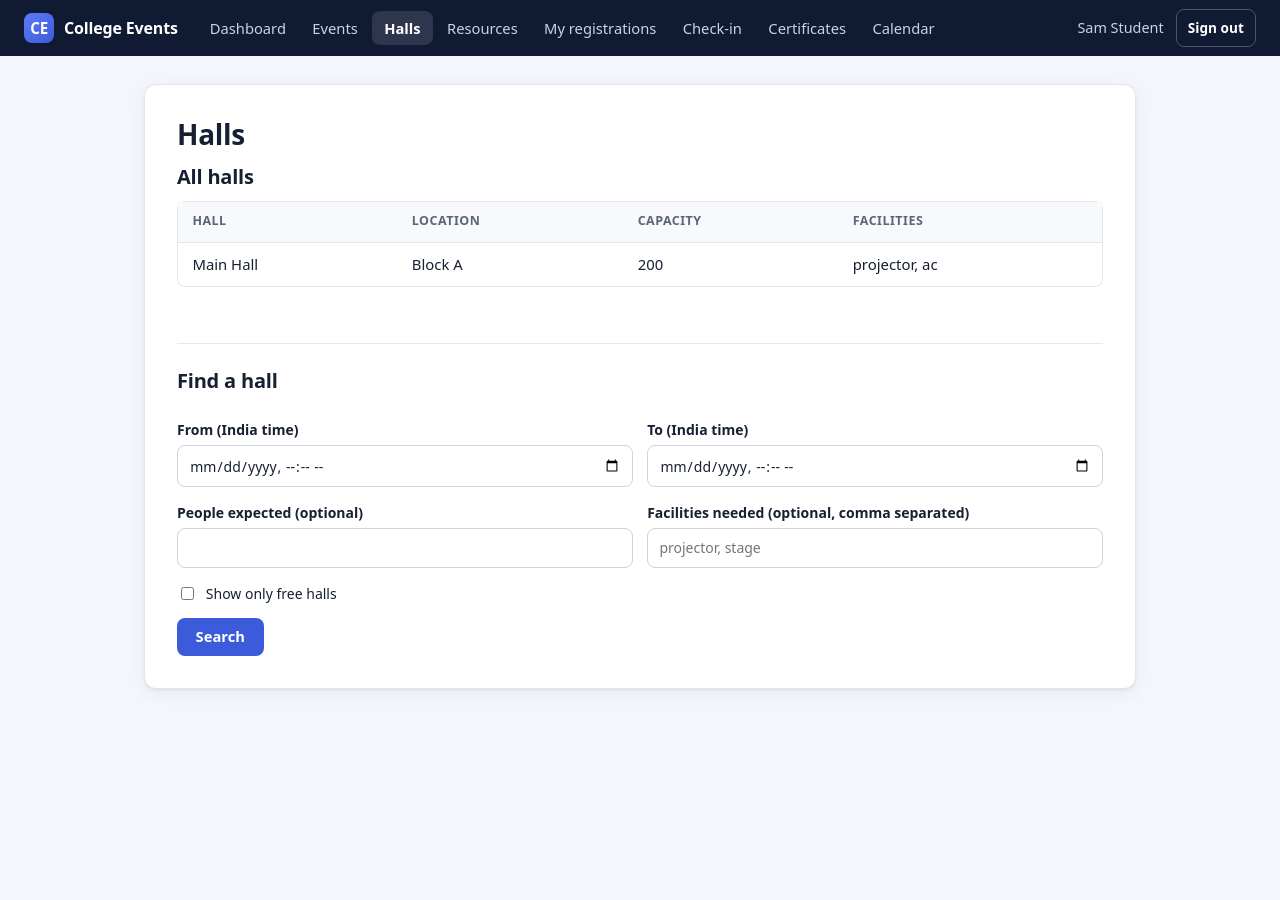
Test: halls page › shows which halls are free, who holds the others, and what does not fit
Type "2031-03-01T10:00" into the field labelled "From (India time)". click: point(405, 466)
box: x1=177 y1=445 x2=633 y2=487
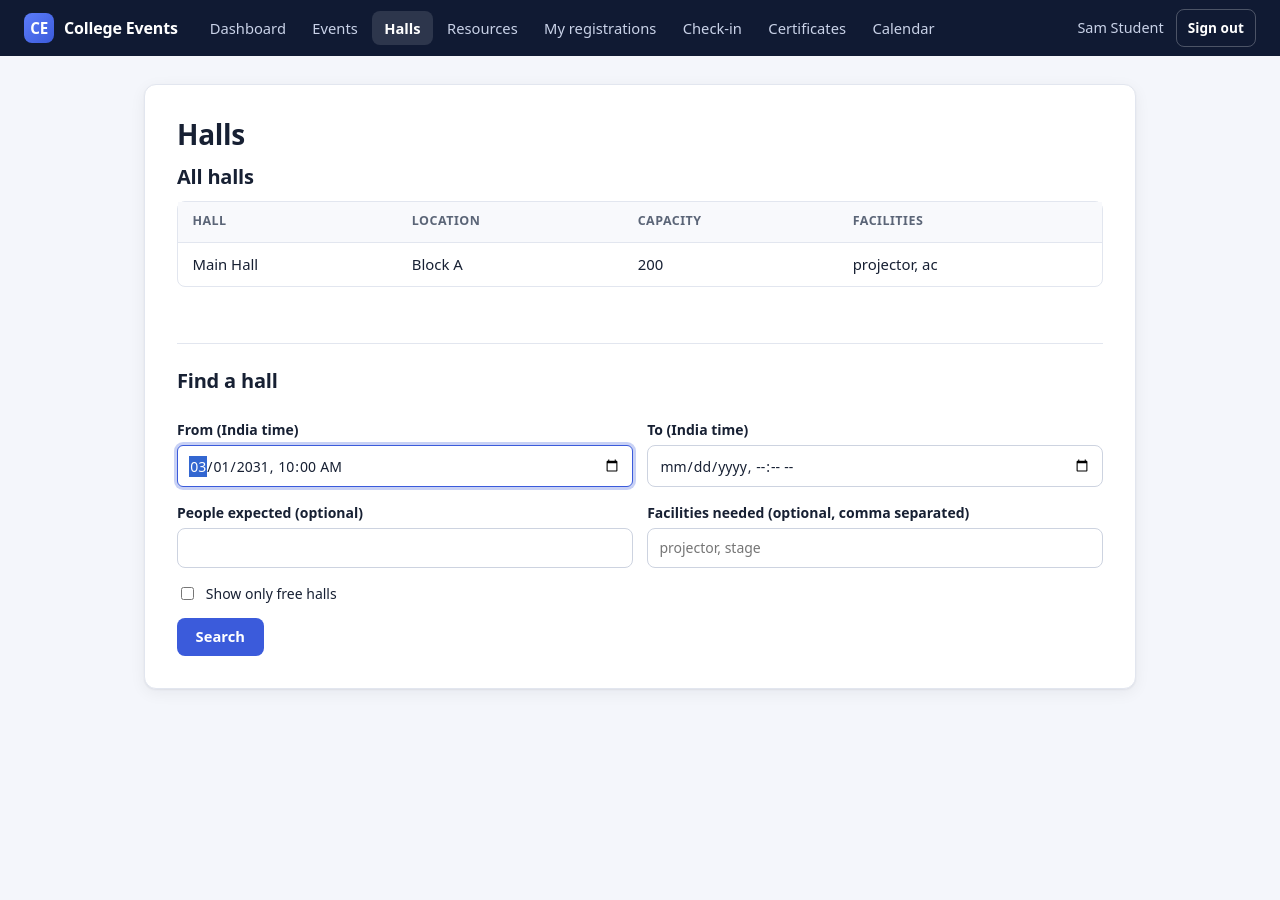
Type "2031-03-01T12:00" into the field labelled "To (India time)". click: point(875, 466)
box: x1=647 y1=445 x2=1103 y2=487
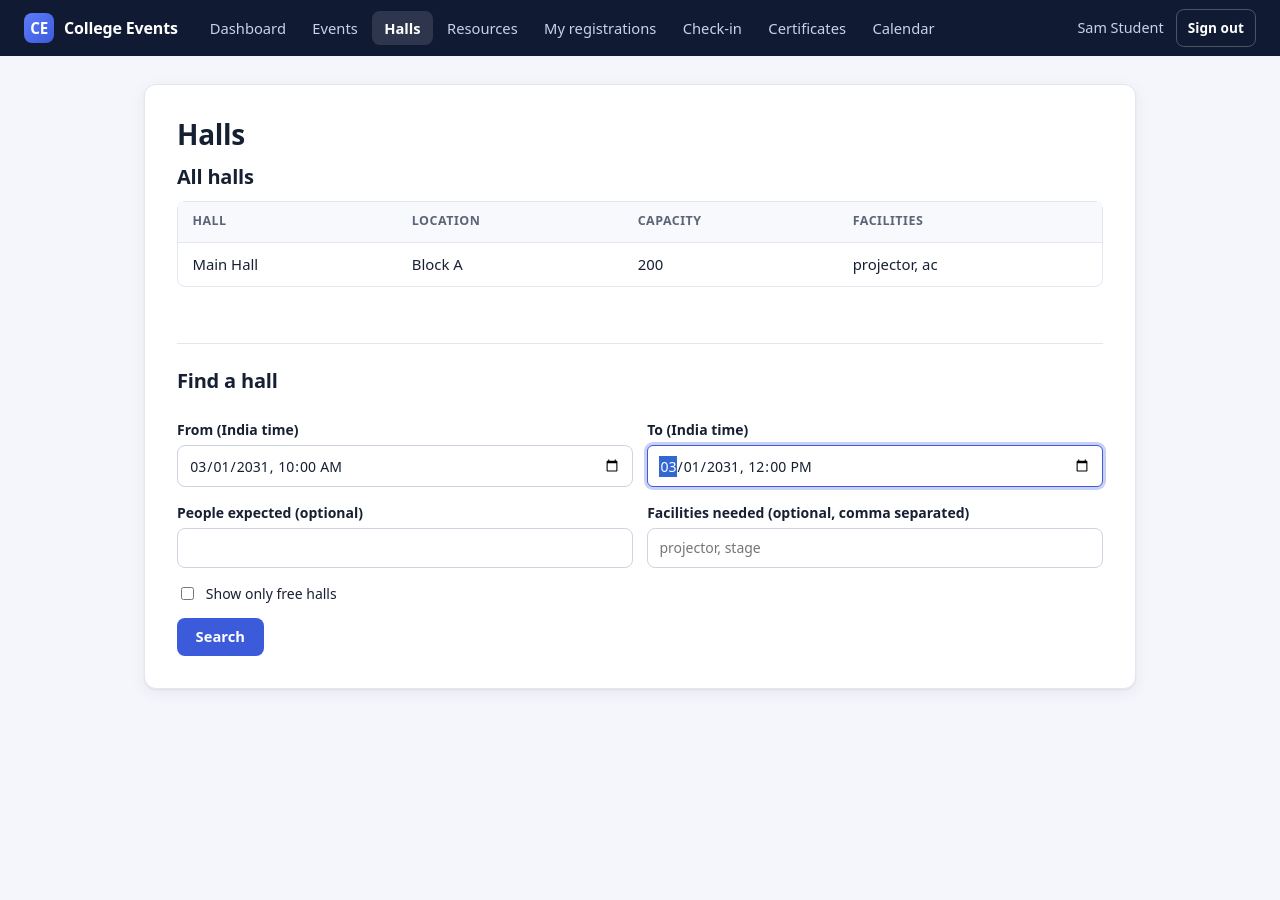
Type "300" into the number field labelled "People expected (optional)". click: point(405, 548)
box: x1=177 y1=528 x2=633 y2=568
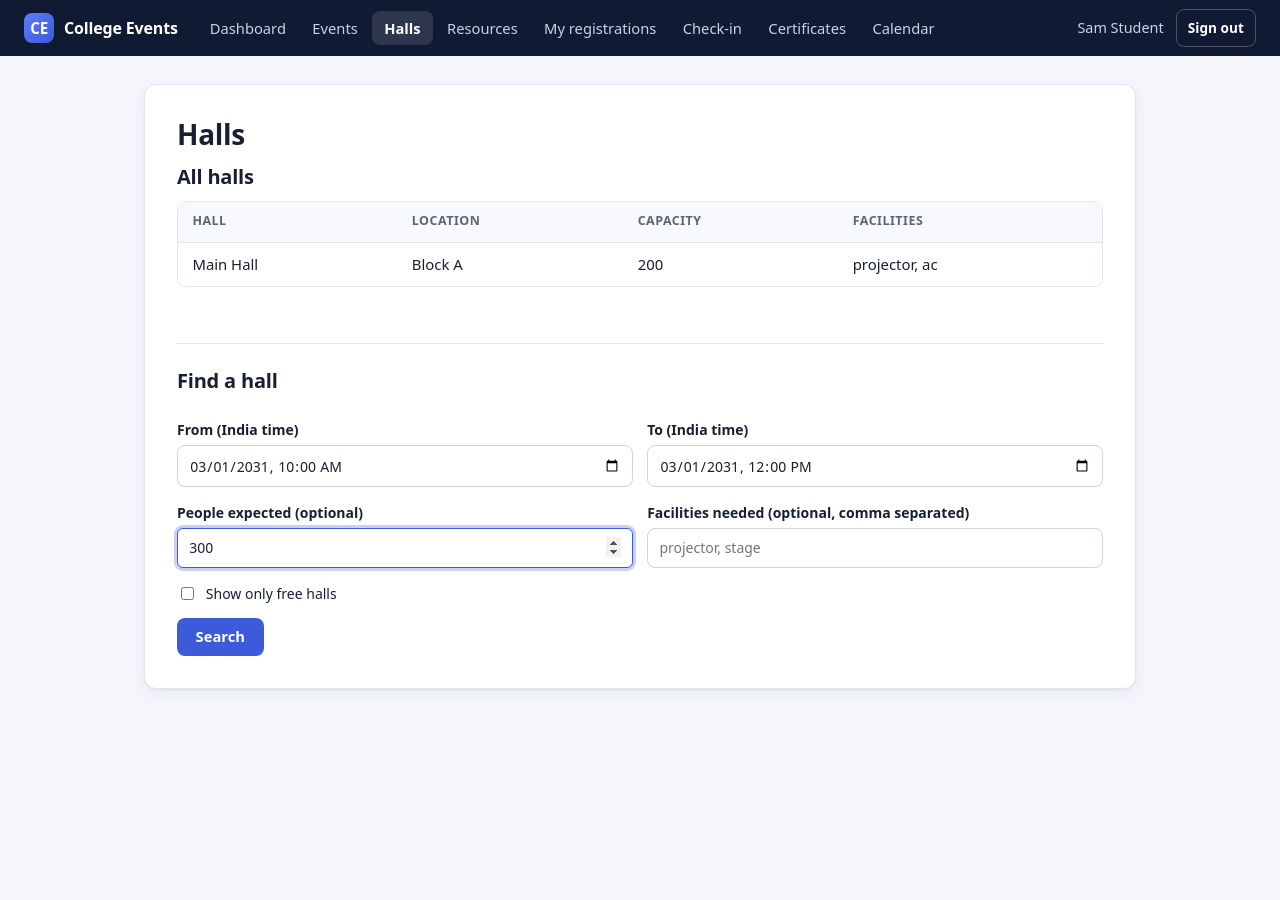
Type "stage" into the field labelled "Facilities needed (optional, comma separated)". click: point(875, 548)
box: x1=647 y1=528 x2=1103 y2=568
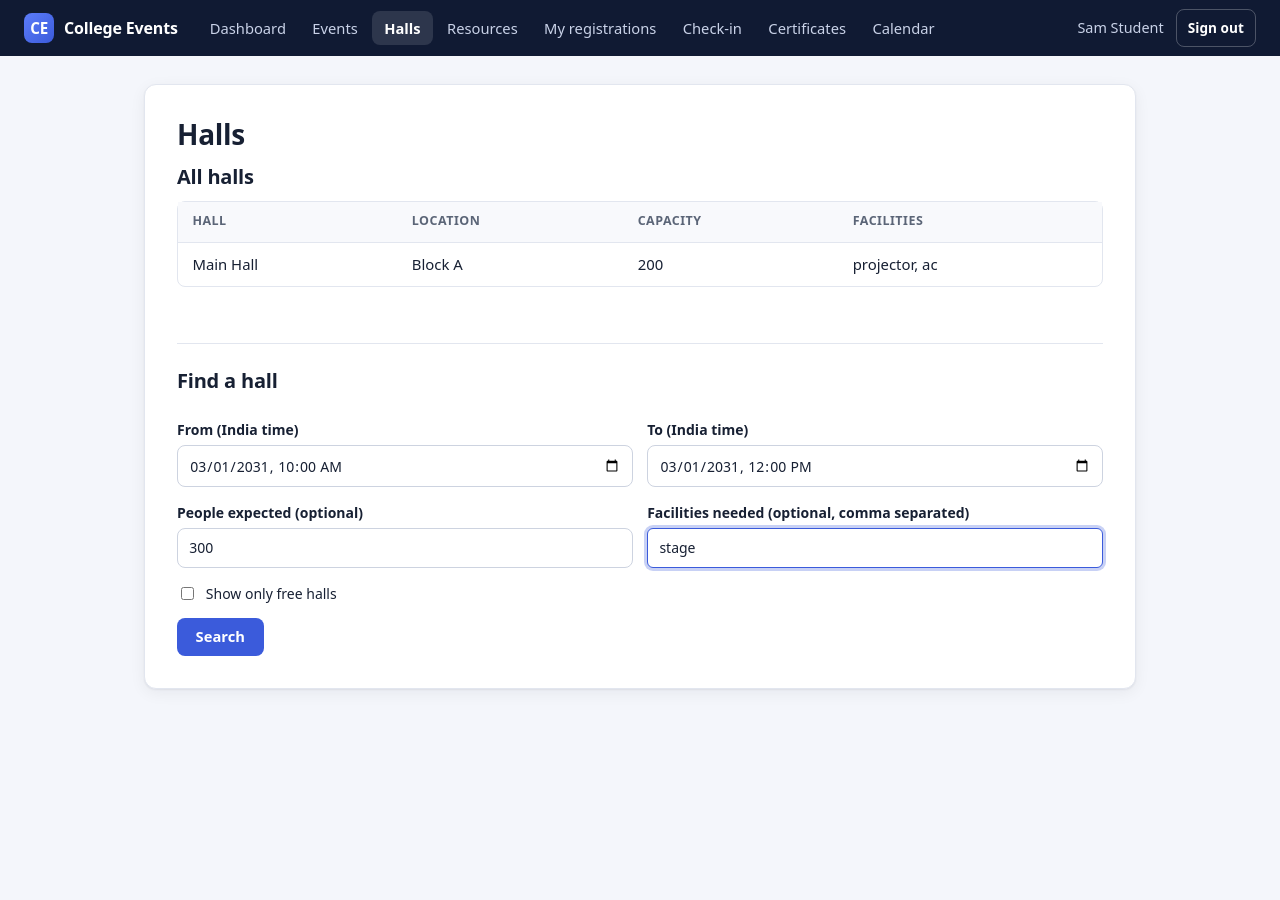
Click the button "Search". click: point(220, 637)
box: x1=177 y1=618 x2=264 y2=656
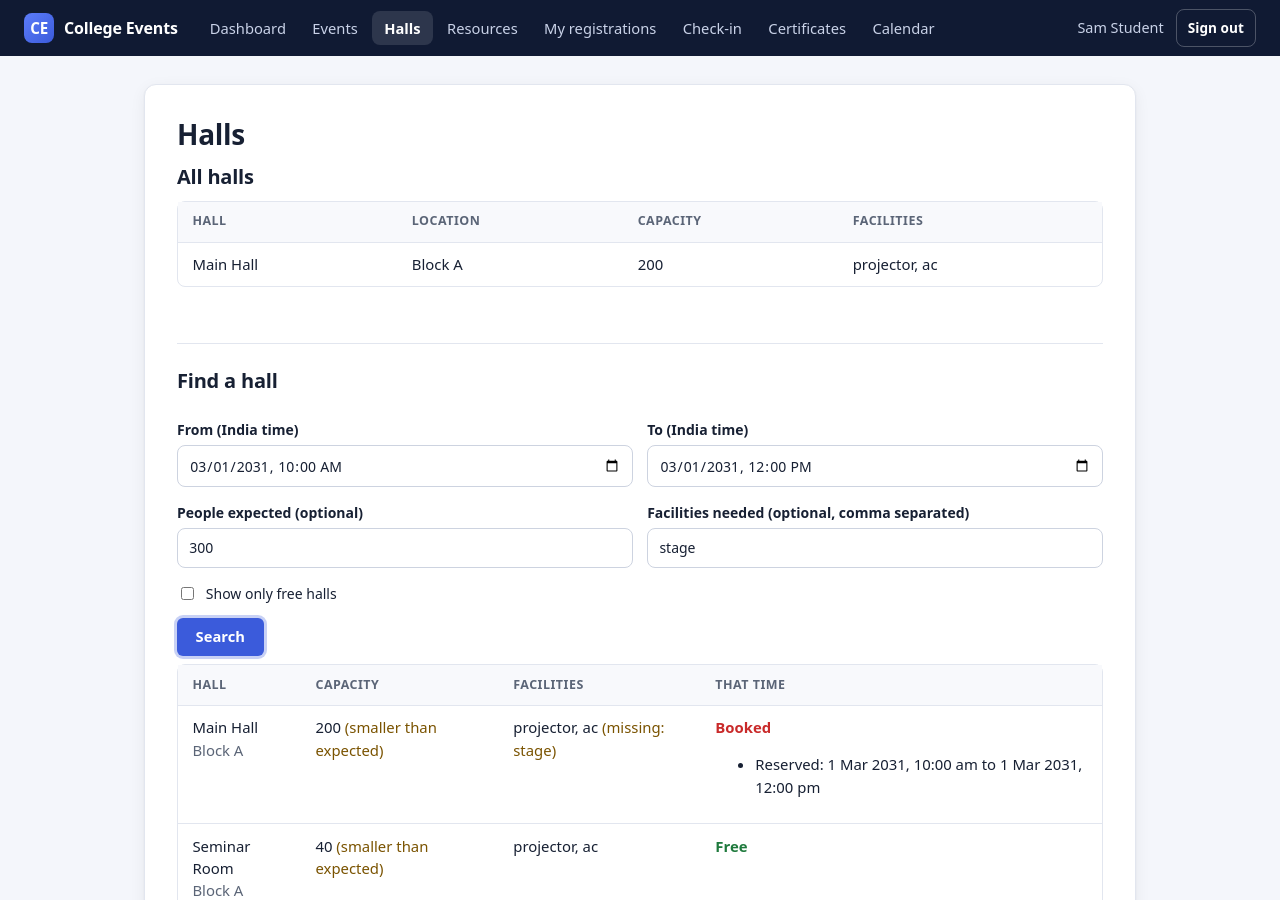
Result: the text "Booked" is shown at x1=715 y1=717 x2=771 y2=737
Result: the list item "Reserved: 1 Mar 2031, 10:00 am to 1 Mar 2031, 12:00 pm" is shown at x1=755 y1=753 x2=1088 y2=798
Result: the text "Free" is shown at x1=715 y1=836 x2=748 y2=856
